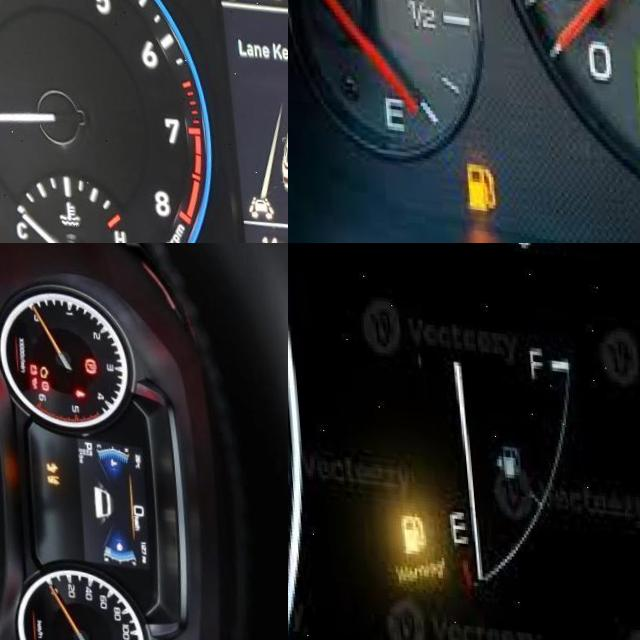Seat Belt: (71, 380, 83, 390)
